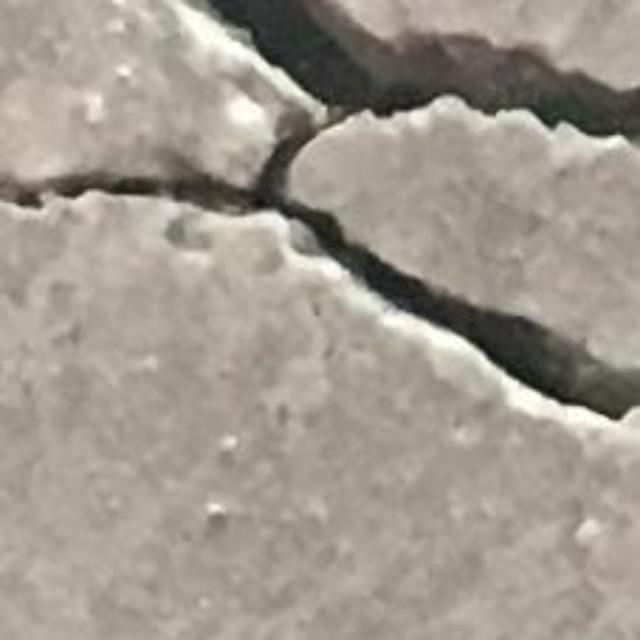crack: (0, 0, 639, 420)
